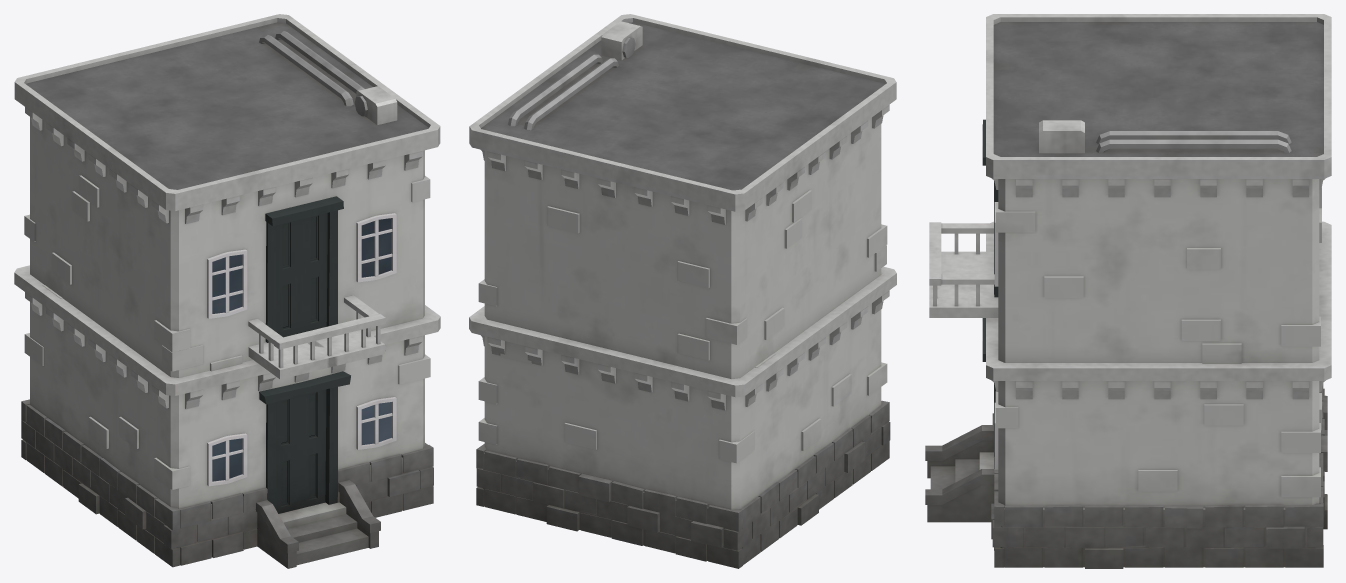
The model's file is 2Story_Balcony.glb.
3 views of the same model, side by side, from view 1: azimuth 30°, elevation 25°; view 2: azimuth 150°, elevation 25°; view 3: azimuth 270°, elevation 25° (orthographic). The views are drawn at different scales.
Visible parts, largest first — view 1: 2Story_Balcony_high; view 2: 2Story_Balcony_high; view 3: 2Story_Balcony_high.
Boxes of the visible parts, x1,y1,x2,y2 form: 2Story_Balcony_high: (14, 14, 440, 568); 2Story_Balcony_high: (469, 14, 896, 568); 2Story_Balcony_high: (925, 14, 1331, 568).
Bounding box in the file's own units: 2.16 × 2.94 × 2.53.
Materials: 2 (2 with a texture image).
